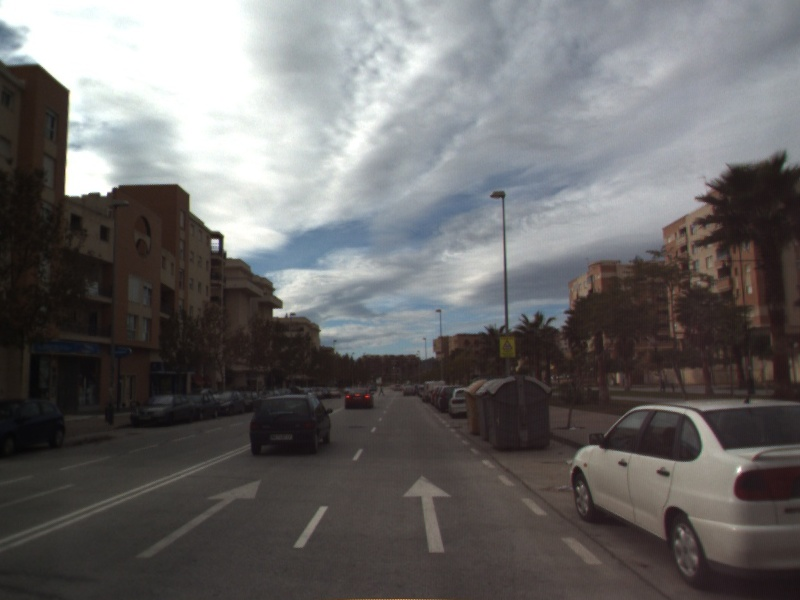STRAIGHT: (134, 477, 264, 560), (401, 473, 454, 555)
